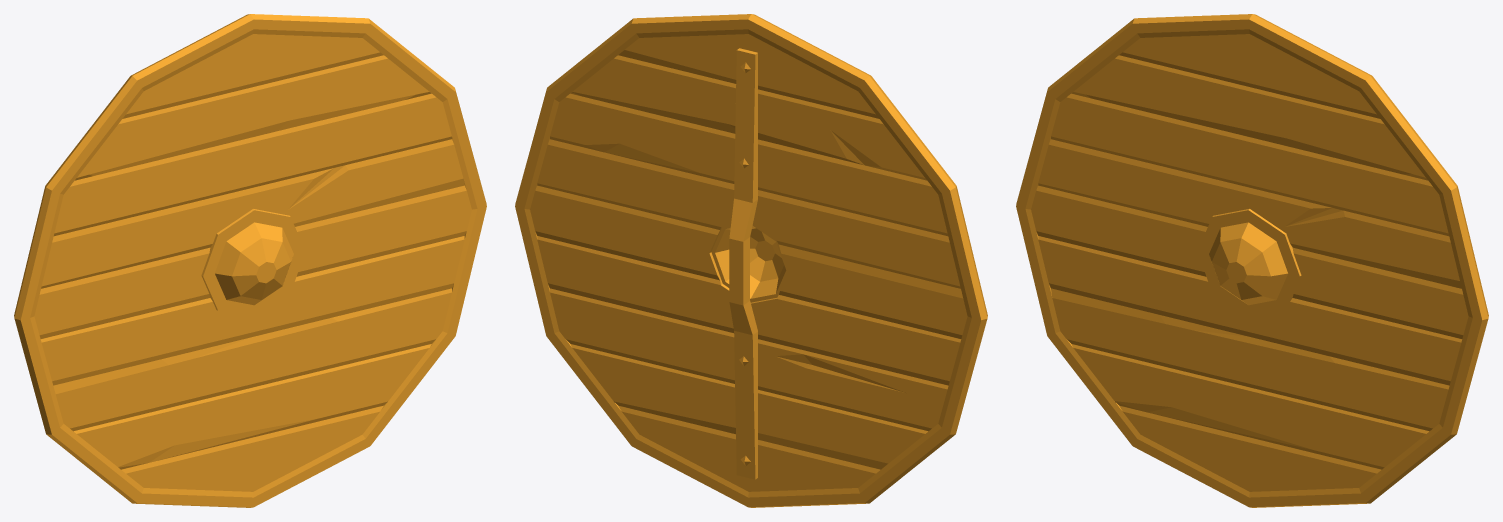
Rendered from SM_Shield_Round_B.fbx.
The picture shows the model from 3 angles, left to right: view 1: azimuth 30°, elevation 25°; view 2: azimuth 150°, elevation 25°; view 3: azimuth 330°, elevation 25°; orthographic projection.
Visible parts, largest first — view 1: shield-round-b; view 2: shield-round-b; view 3: shield-round-b.
Boxes of the visible parts, bbox=[...] form: shield-round-b: bbox=[14, 14, 486, 507]; shield-round-b: bbox=[515, 14, 987, 507]; shield-round-b: bbox=[1016, 14, 1488, 507].
Bounding box in the file's own units: 1.01 × 1.01 × 0.1152.
